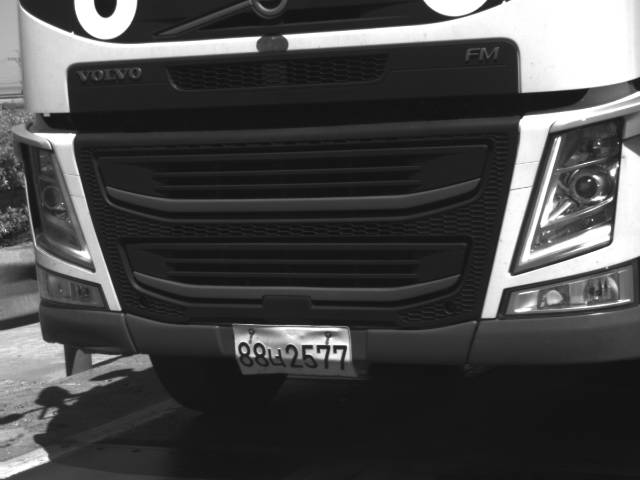car: (10, 1, 640, 412)
plate: (231, 323, 361, 380)
